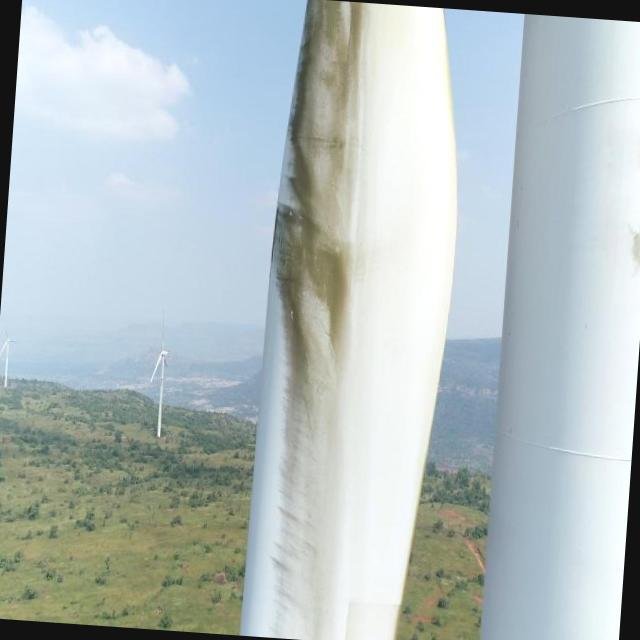Dirt: (268, 1, 379, 640)
